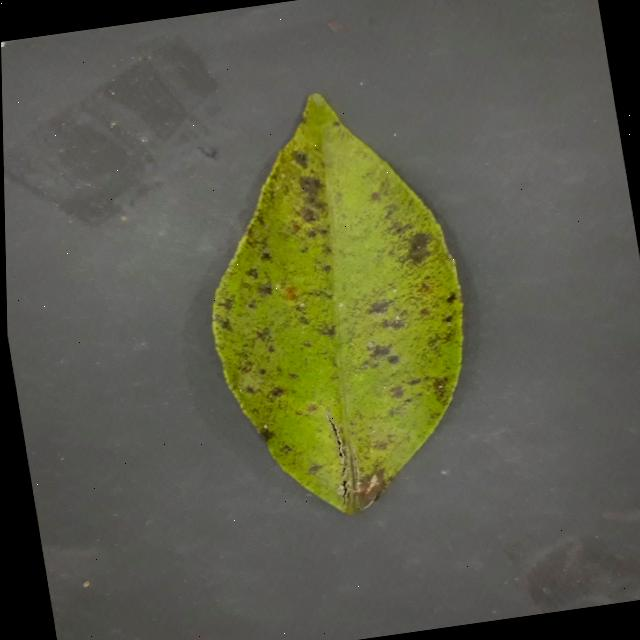greasy_spot: (211, 94, 462, 514)
